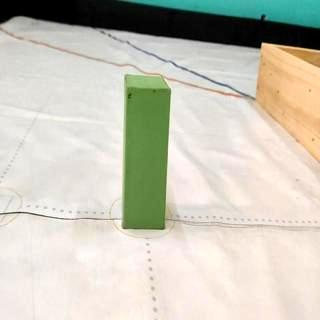greenbox: (121, 71, 172, 230)
